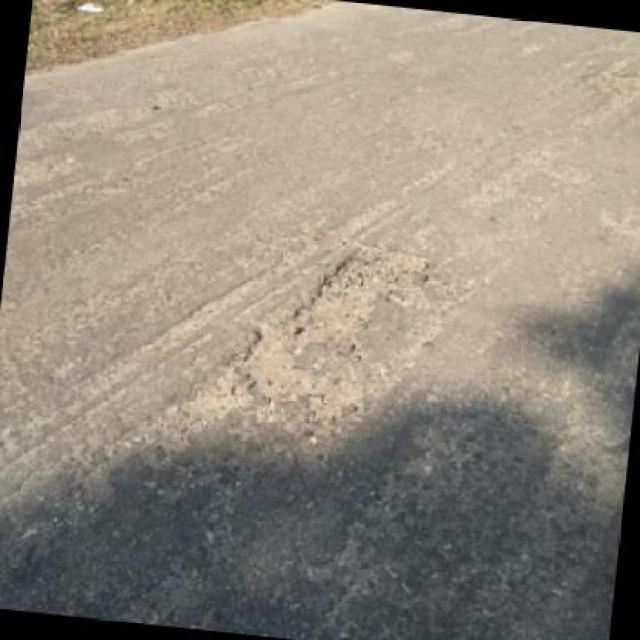pothole1: (226, 228, 434, 429)
